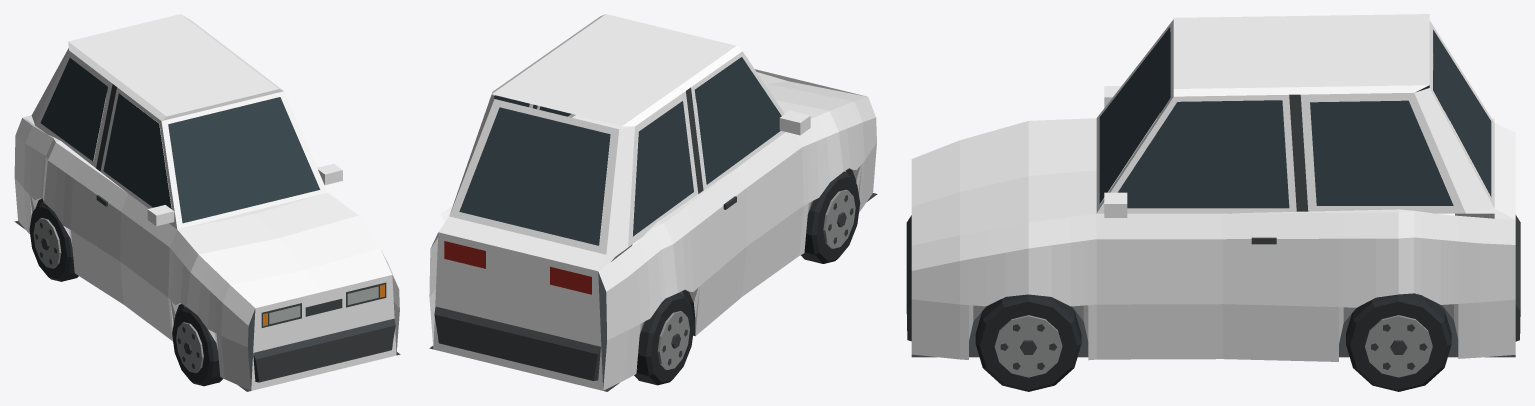
The model's file is hayase_jinrai_s.glb.
3 views of the same model, side by side, from view 1: azimuth 30°, elevation 25°; view 2: azimuth 150°, elevation 25°; view 3: azimuth 270°, elevation 25° (orthographic). The views are drawn at different scales.
Visible parts, largest first — view 1: hayase_jinrai_s; view 2: hayase_jinrai_s; view 3: hayase_jinrai_s.
Boxes of the visible parts, left/top/right/bottom form: hayase_jinrai_s: left=14, top=14, right=400, bottom=391; hayase_jinrai_s: left=429, top=14, right=877, bottom=391; hayase_jinrai_s: left=906, top=14, right=1520, bottom=391.
Bounding box in the file's own units: 1.46 × 1.66 × 3.2.
8 materials, 1 textured.
